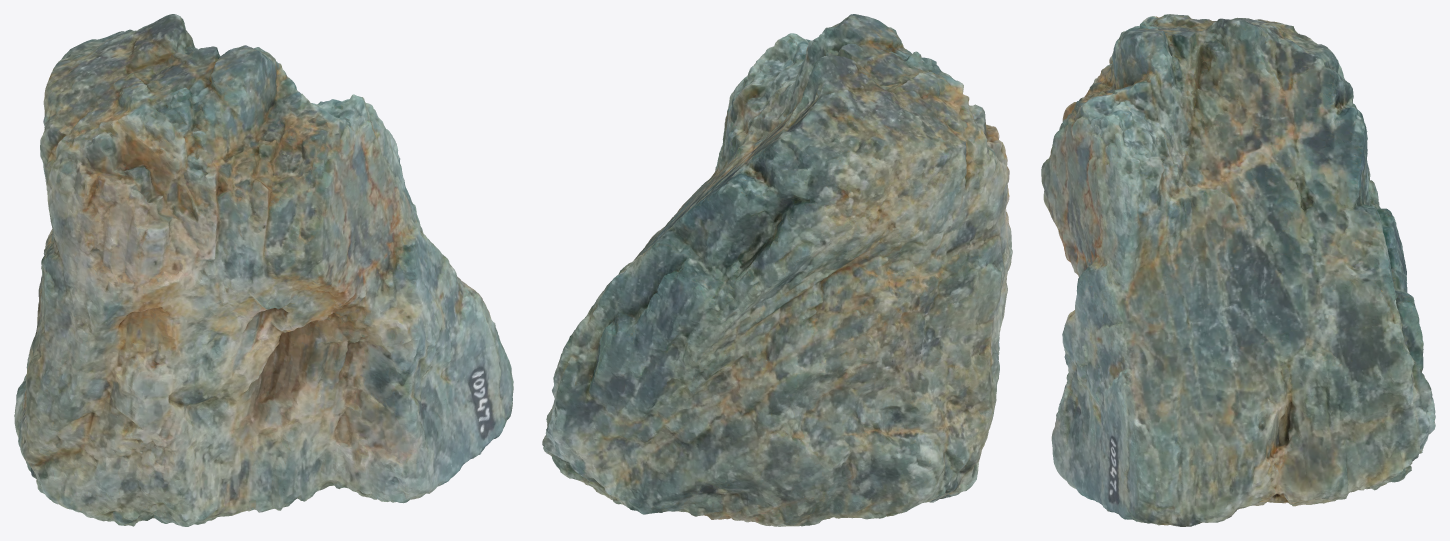
File: apatite.glb
3 renders of one model, left to right at view 1: azimuth 30°, elevation 25°; view 2: azimuth 150°, elevation 25°; view 3: azimuth 270°, elevation 25°, orthographic. The views are drawn at different scales.
Visible parts, largest first — view 1: Object_2; view 2: Object_2; view 3: Object_2.
Boxes of the visible parts, box(x1,y1,x2,y2) form: Object_2: box(14, 14, 513, 526); Object_2: box(542, 14, 1012, 526); Object_2: box(1041, 14, 1435, 526).
Bounding box in the file's own units: 0.266 × 0.2628 × 0.2267.
Materials: 1 (1 with a texture image).
